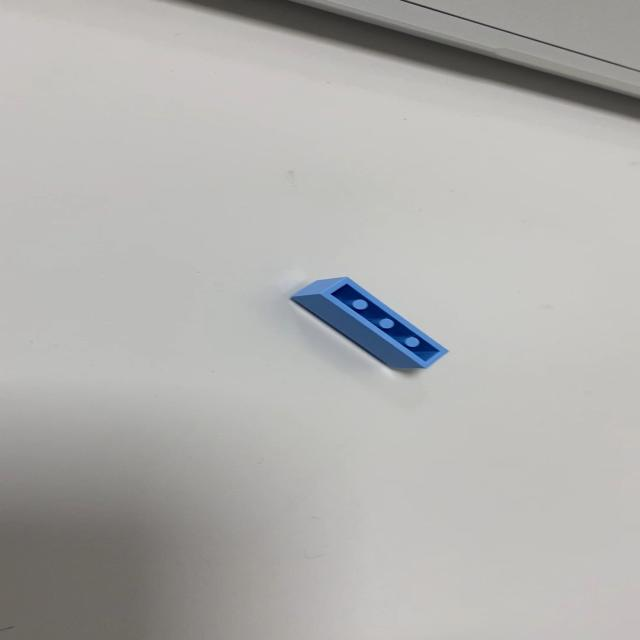C4x1x1: (288, 275, 450, 371)
